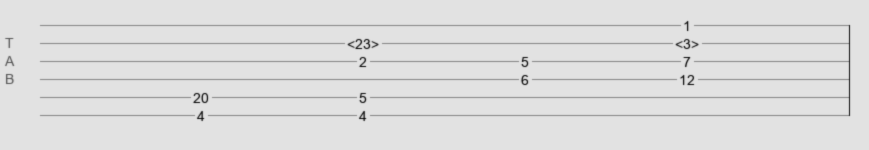1: (683, 18, 691, 28)
12: (679, 72, 695, 82)
2: (359, 54, 367, 64)
20: (193, 90, 209, 100)
4: (197, 108, 205, 118), (359, 108, 367, 118)
5: (359, 90, 367, 100), (521, 54, 529, 64)
6: (521, 72, 529, 82)
7: (683, 54, 691, 64)
harmonic: (347, 36, 379, 46), (675, 36, 699, 46)
